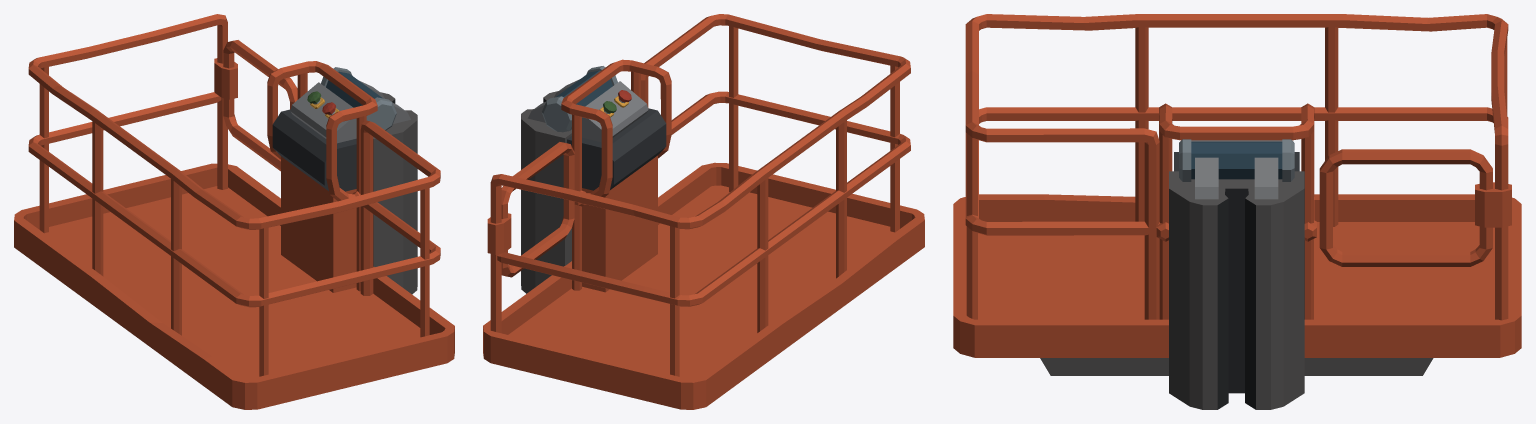
Rendered from SM_Prop_Elevator_02.fbx.
3 renders of one model, left to right at view 1: azimuth 30°, elevation 25°; view 2: azimuth 150°, elevation 25°; view 3: azimuth 270°, elevation 25°, orthographic. The views are drawn at different scales.
Parts seen in each view (by area): view 1: SM_Prop_Elevator_02, SM_Prop_Elevator_Door_02; view 2: SM_Prop_Elevator_02, SM_Prop_Elevator_Door_02; view 3: SM_Prop_Elevator_02, SM_Prop_Elevator_Door_02.
Boxes of the visible parts, x1=… form: SM_Prop_Elevator_02: x1=14, y1=14, x2=454, y2=409; SM_Prop_Elevator_Door_02: x1=223, y1=40, x2=297, y2=171; SM_Prop_Elevator_02: x1=483, y1=14, x2=924, y2=409; SM_Prop_Elevator_Door_02: x1=501, y1=142, x2=574, y2=277; SM_Prop_Elevator_02: x1=953, y1=14, x2=1521, y2=409; SM_Prop_Elevator_Door_02: x1=1319, y1=149, x2=1492, y2=266.
Size of the model in its own units: 164 by 117 by 240.
